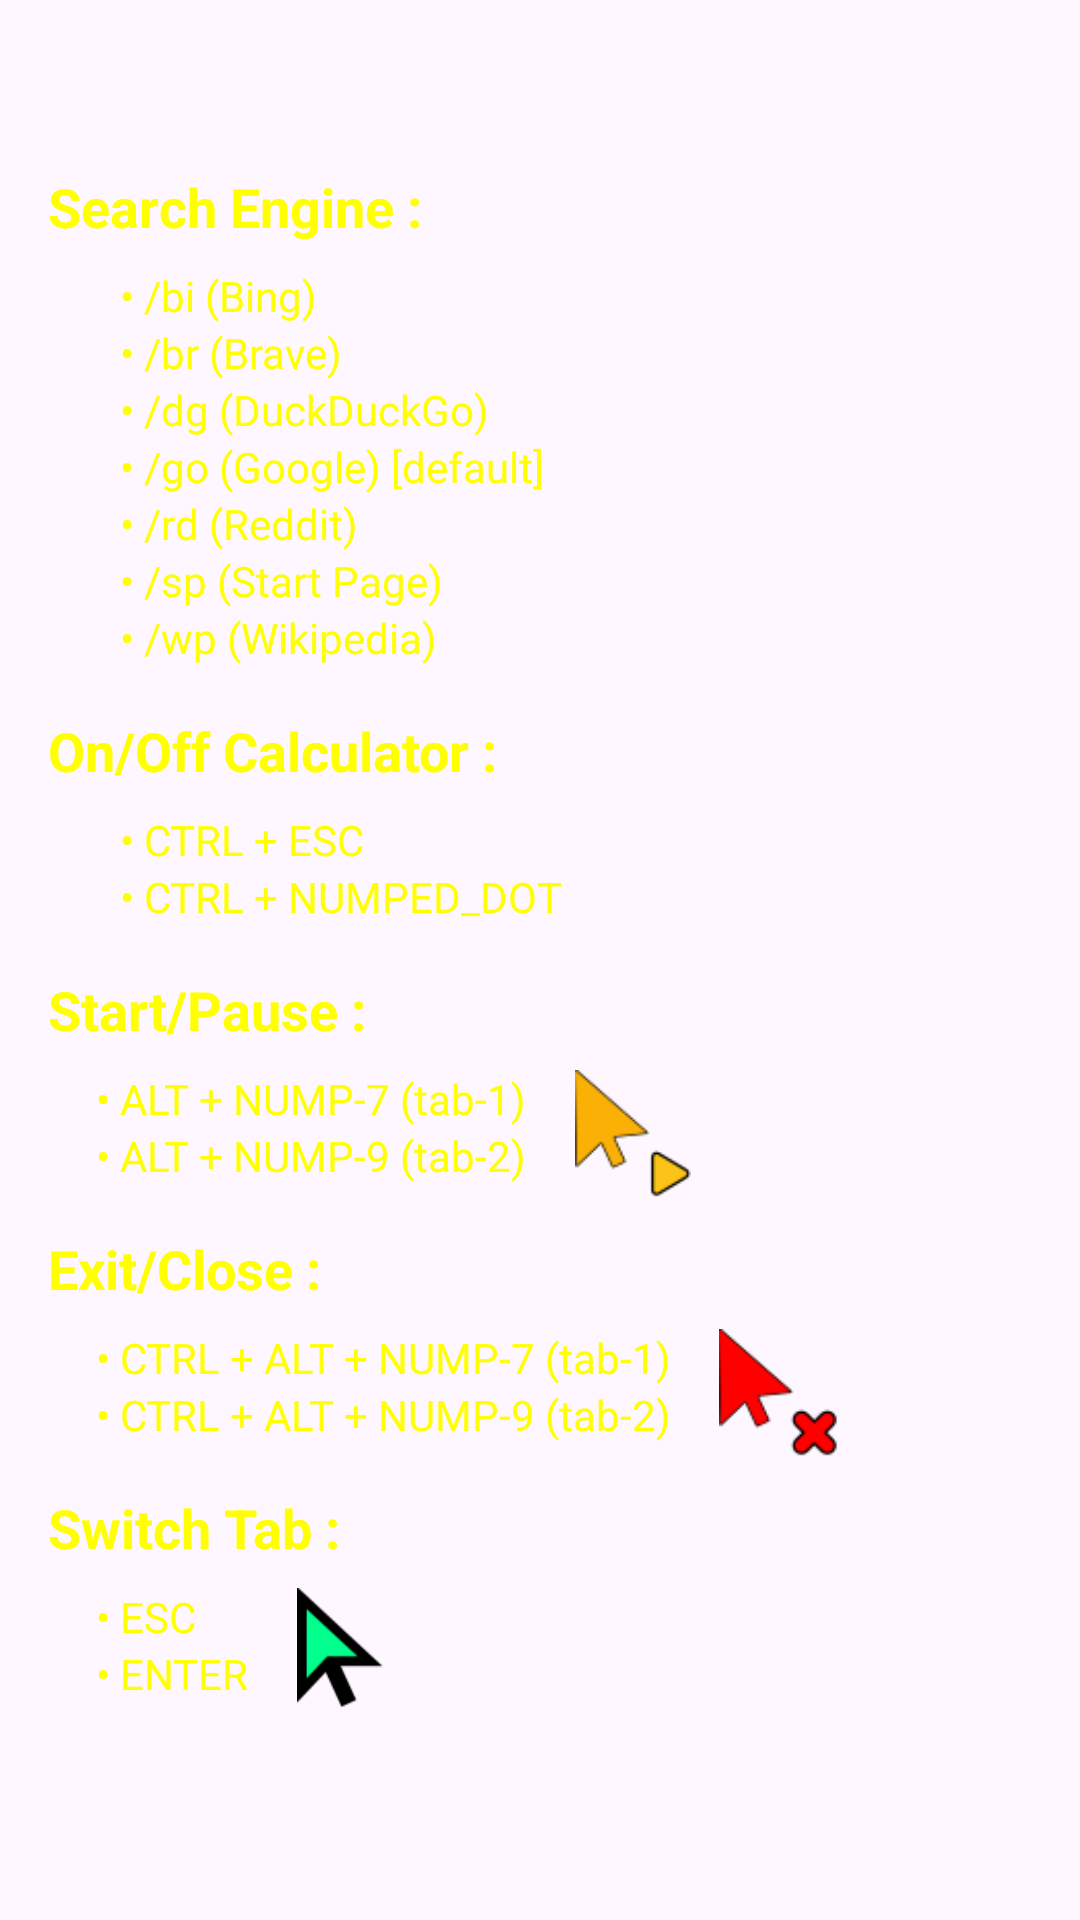

Where to tap for icons on this 1080x1920 app screen, as (x,y):
cursor close: (778,1392)
cursor main: (339,1647)
cursor play: (633,1133)
